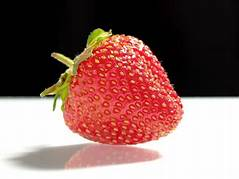Fresa: (60, 30, 188, 150)
